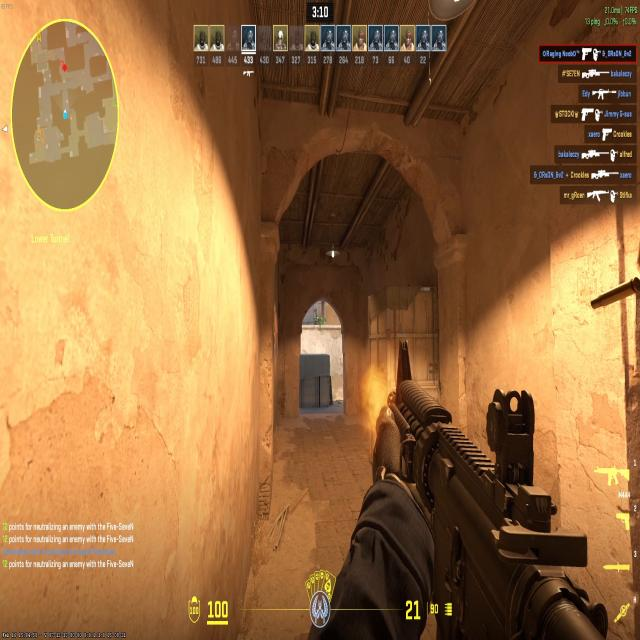player: (313, 314, 321, 327)
